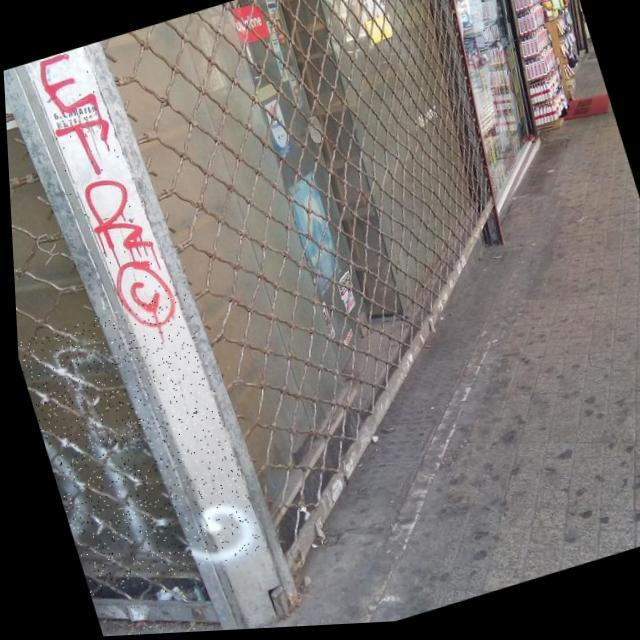-: (12, 289, 258, 604), (28, 39, 184, 358)
